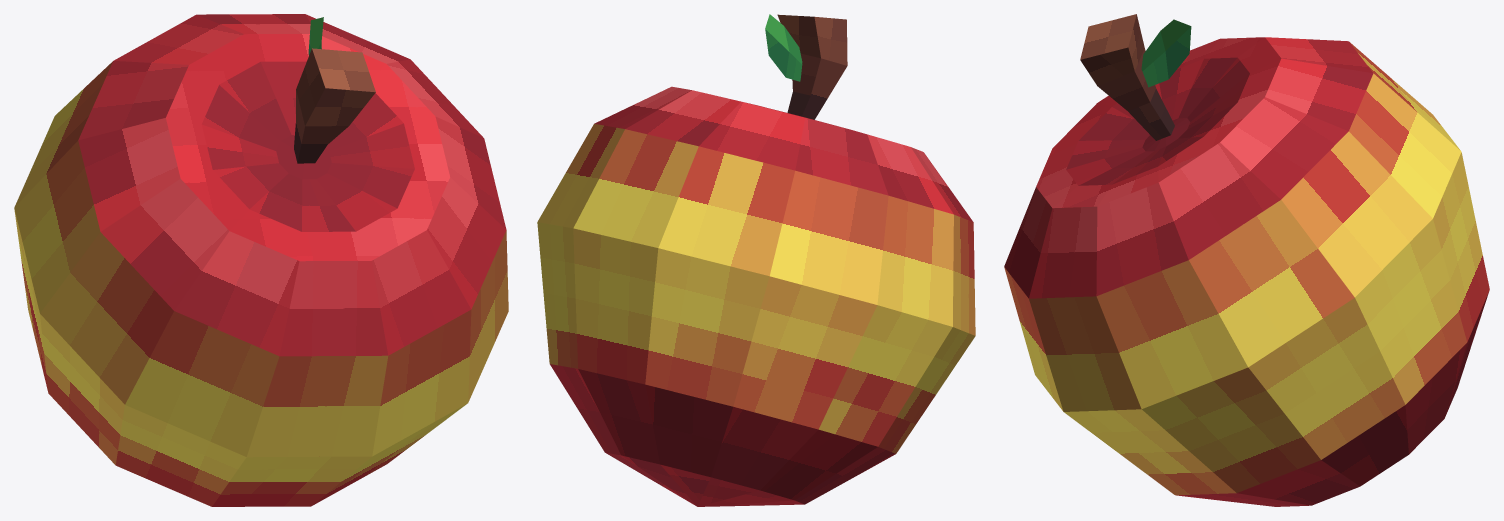
3 renders of one model, left to right at view 1: azimuth 30°, elevation 25°; view 2: azimuth 150°, elevation 25°; view 3: azimuth 270°, elevation 25°, orthographic. The views are drawn at different scales.
Visible parts, largest first — view 1: sphere, cuboid; view 2: sphere, cuboid, plane; view 3: sphere, cuboid, plane.
Boxes of the visible parts, x1,y1,x2,y2 form: sphere: [14, 14, 508, 506]; cuboid: [294, 48, 375, 163]; sphere: [537, 86, 975, 506]; cuboid: [777, 14, 847, 119]; plane: [765, 14, 802, 81]; sphere: [1004, 37, 1489, 506]; cuboid: [1080, 14, 1174, 140]; plane: [1141, 19, 1191, 87].
Size of the model in its own units: 0.3442 by 0.3715 by 0.3395.
1 material, 1 textured.
